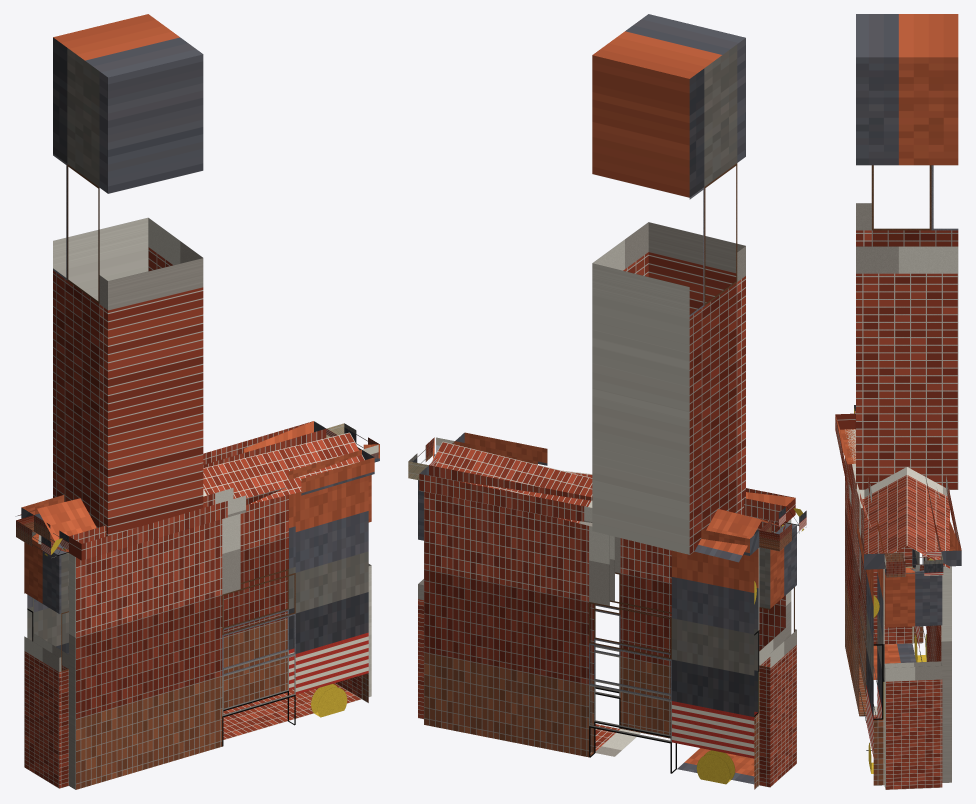
3 renders of one model, left to right at view 1: azimuth 30°, elevation 25°; view 2: azimuth 150°, elevation 25°; view 3: azimuth 270°, elevation 25°, orthographic. The views are drawn at different scales.
Visible parts, largest first — view 1: 1107169168__chimney_0_xb, 1107169168__wall_1_xb, 1107169168__wall_3_xb, 1107169168__wall_2_xb, 1107169168_roof_-1_xb, 1107169168__cornice_1, 1107169168__cornice_3, 1107169168__base, 1107169168__cornice_2, 1107169168__wall_0_xb; view 2: 1107169168__chimney_0_xb, 1107169168__wall_3_xb, 1107169168__wall_1_xb, 1107169168__wall_2_xb, 1107169168_roof_1_xb, 1107169168__cornice_3, 1107169168__cornice_1, 1107169168__base, 1107169168__wall_0_xb, 1107169168__cornice_2; view 3: 1107169168__chimney_0_xb, 1107169168__wall_0_xb, 1107169168__wall_1_xb, 1107169168__wall_3_xb, 1107169168_roof_-1_xb, 1107169168_roof_1_xb, 1107169168__cornice_1, 1107169168__cornice_0, 1107169168__wall_2_xb, 1107169168__cornice_3, 1107169168__base.
Part boxes in pixels (box(x1,y1,x2,y2)): 1107169168__chimney_0_xb: box(53, 14, 203, 536); 1107169168__wall_1_xb: box(69, 476, 368, 789); 1107169168__wall_3_xb: box(27, 495, 288, 708); 1107169168__wall_2_xb: box(24, 532, 68, 788); 1107169168_roof_-1_xb: box(37, 432, 364, 550); 1107169168__cornice_1: box(69, 450, 374, 560); 1107169168__cornice_3: box(21, 421, 326, 520); 1107169168__base: box(223, 683, 361, 739); 1107169168__cornice_2: box(16, 515, 68, 557); 1107169168__wall_0_xb: box(335, 475, 371, 698); 1107169168__chimney_0_xb: box(592, 14, 745, 554); 1107169168__wall_3_xb: box(424, 492, 759, 789); 1107169168__wall_1_xb: box(595, 516, 791, 738); 1107169168__wall_2_xb: box(759, 523, 796, 787); 1107169168_roof_1_xb: box(430, 441, 761, 562); 1107169168__cornice_3: box(419, 465, 759, 555); 1107169168__cornice_1: box(455, 432, 795, 523); 1107169168__base: box(595, 724, 754, 784); 1107169168__wall_0_xb: box(418, 480, 423, 719); 1107169168__cornice_2: box(759, 507, 806, 551); 1107169168__chimney_0_xb: box(856, 14, 958, 489); 1107169168__wall_0_xb: box(884, 567, 942, 789); 1107169168__wall_1_xb: box(845, 429, 884, 785); 1107169168__wall_3_xb: box(912, 549, 951, 782); 1107169168_roof_-1_xb: box(864, 467, 906, 556); 1107169168_roof_1_xb: box(907, 467, 949, 568); 1107169168__cornice_1: box(835, 413, 884, 569); 1107169168__cornice_0: box(884, 551, 943, 577); 1107169168__wall_2_xb: box(873, 546, 912, 644); 1107169168__cornice_3: box(925, 475, 961, 566); 1107169168__base: box(873, 643, 916, 718).
Bounding box in the file's own units: 0.5518 × 1.05 × 0.1852.
1 material, 1 textured.
